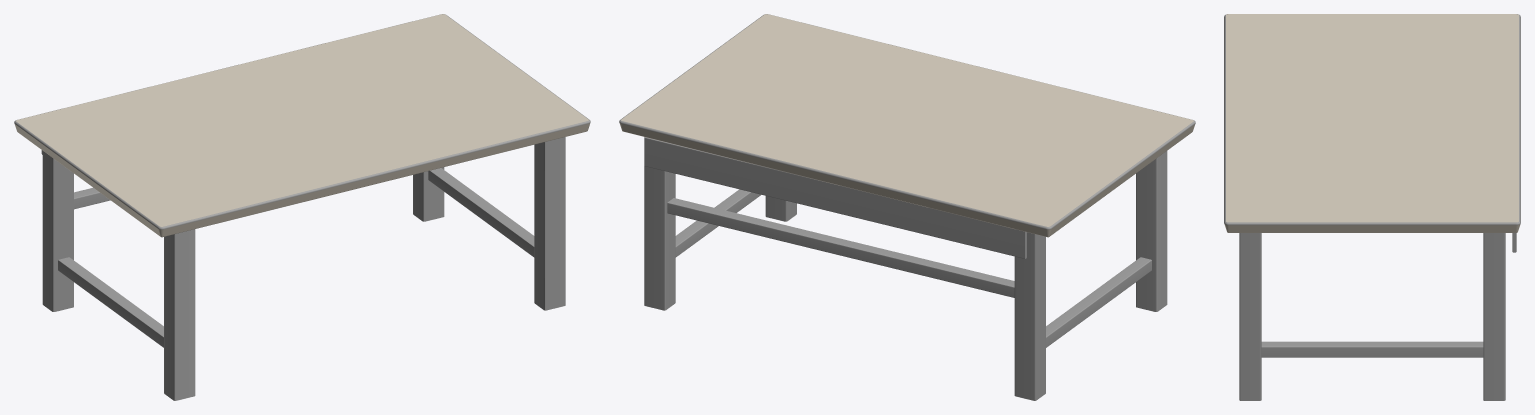
File: z_zhuozi_02.fbx
The picture shows the model from 3 angles, left to right: view 1: azimuth 30°, elevation 25°; view 2: azimuth 150°, elevation 25°; view 3: azimuth 270°, elevation 25°; orthographic projection.
Visible parts, largest first — view 1: zhuozi_02; view 2: zhuozi_02; view 3: zhuozi_02.
Part boxes in pixels (left/top/right/bottom): zhuozi_02: left=14, top=14, right=590, bottom=400; zhuozi_02: left=619, top=14, right=1195, bottom=400; zhuozi_02: left=1224, top=14, right=1520, bottom=400.
Size of the model in its own units: 188 by 77.45 by 111.
